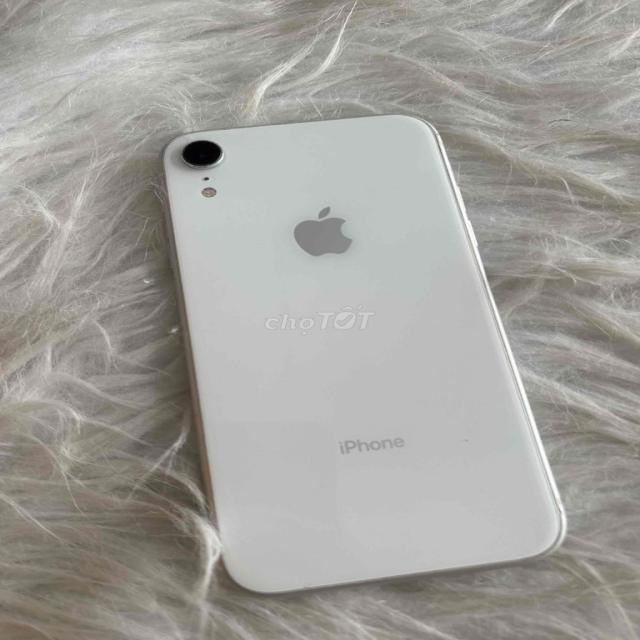gen_x_xs: (163, 115, 565, 593)
